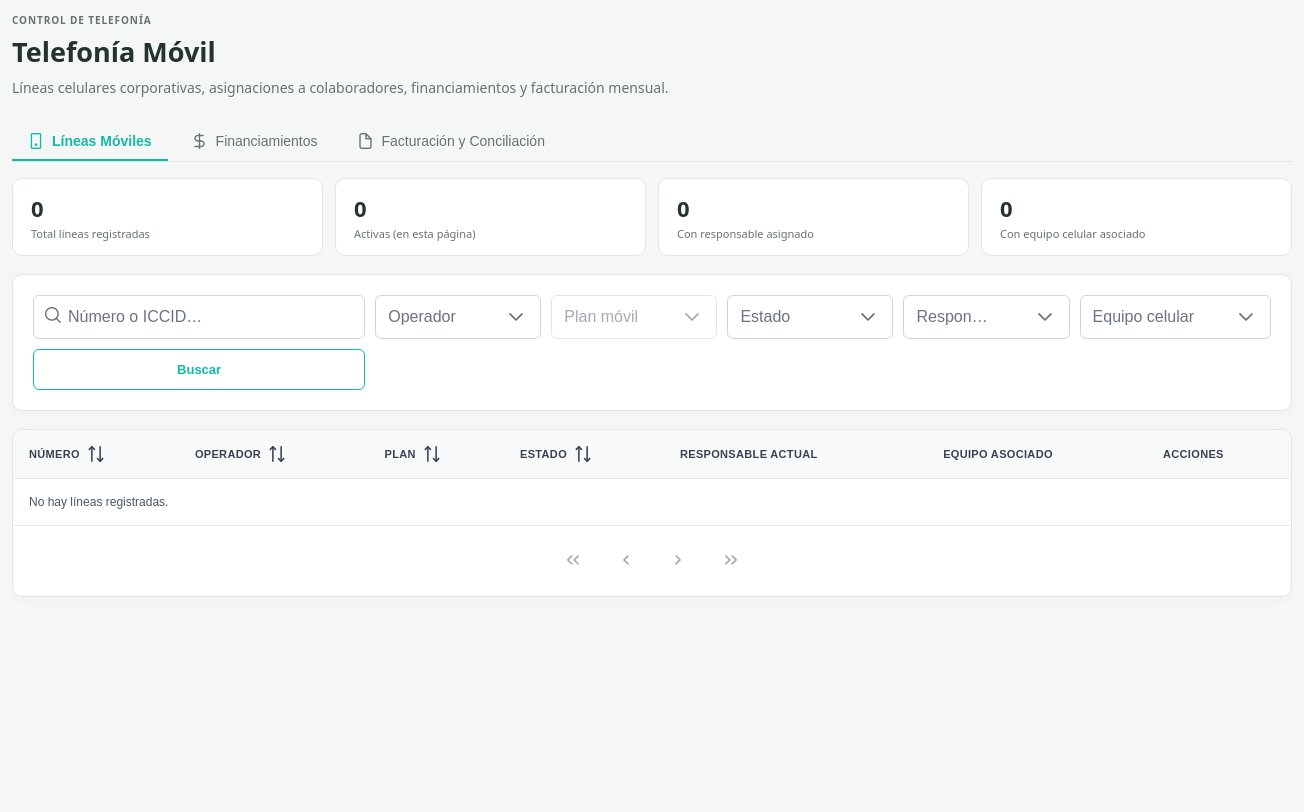
Test case: Módulo de Facturación y Conciliación de Telefonía › permite cambiar a la pestaña de facturación y lista las facturas
Note: Click en la pestaña Facturación
Click the tab "Facturación y Conciliación" at (451, 142), box [342,123,561,161]
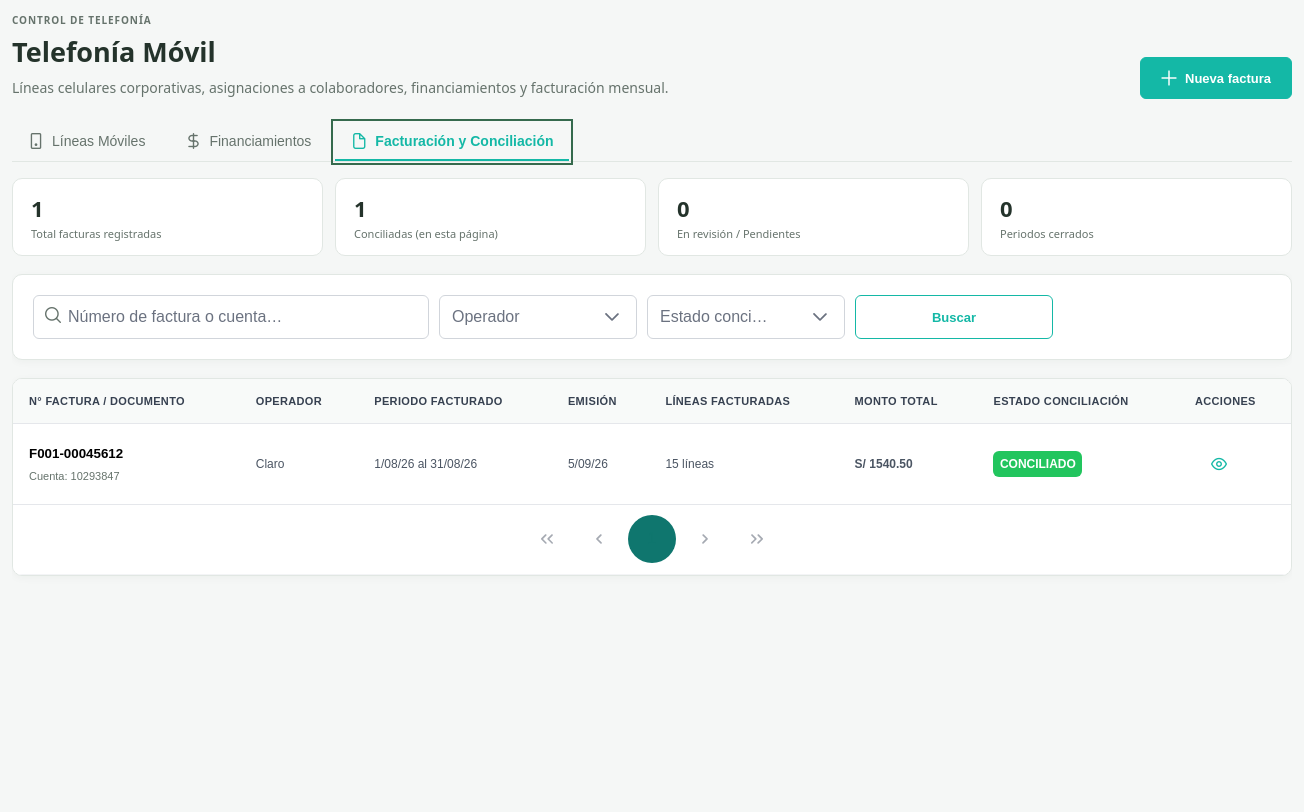
Expected: the text "F001-00045612" is shown, [29,446,123,461]
Expected: the text "15 líneas" is shown, [649,424,839,505]
